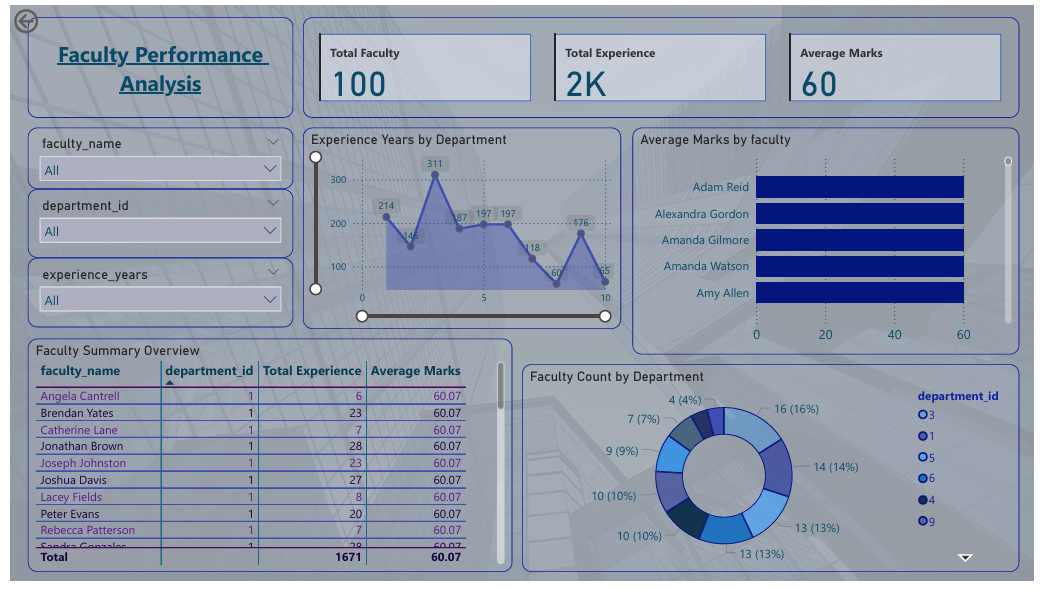

The page's visual inventory and layout, read from the dashboard file:
{"tool":"powerbi","page":{"name":"Faculty","canvas":[1280,720],"ordinal":2},"visuals":[{"type":"cardVisual","fields":{"Data":["faculty.Total Faculty","faculty.Total Experience","marks.Average Marks"]},"box":[366.2,15.1,895.3,126],"z":0},{"type":"textbox","box":[21.8,15.1,332.6,126],"z":1000},{"type":"barChart","title":"Average Marks by faculty","fields":{"Category":["faculty.faculty_name"],"Y":["marks.Average Marks"]},"box":[777.7,152.9,483.8,283.9],"z":2000},{"type":"donutChart","title":"Faculty Count by Department","fields":{"Category":["departments1.department_id"],"Y":["Count(faculty.faculty_id)"]},"box":[640,448.5,621.5,260.4],"z":3000},{"type":"tableEx","title":"Faculty Summary Overview","fields":{"Values":["faculty.faculty_name","faculty.department_id","faculty.Total Experience","marks.Average Marks"]},"box":[21.8,416.6,606.4,292.3],"z":4000},{"type":"slicer","fields":{"Values":["faculty.faculty_name"]},"box":[21.8,152.9,332.6,77.3],"z":5000},{"type":"slicer","fields":{"Values":["faculty.department_id"]},"box":[21.8,230.1,332.6,85.7],"z":6000},{"type":"slicer","fields":{"Values":["faculty.experience_years"]},"box":[21.8,315.8,332.6,87.3],"z":7000},{"type":"actionButton","box":[0,0,100,40],"z":8000},{"type":"lineChart","title":"Experience Years by Department","fields":{"Y":["Sum(faculty.experience_years)"],"Category":["faculty.department_id"]},"box":[366.2,152.9,398.1,252],"z":9000}]}

Visuals, with their boxes in screenshot pixels (x1, y1, x2, y2), scaled from the page's 1280x720 canvas onto the 1043x590 screenshot:
cardVisual - faculty.Total Faculty x faculty.Total Experience: [left=298, top=12, right=1028, bottom=116]
textbox: [left=18, top=12, right=289, bottom=116]
"Average Marks by faculty" barChart: [left=634, top=125, right=1028, bottom=358]
"Faculty Count by Department" donutChart: [left=522, top=368, right=1028, bottom=581]
"Faculty Summary Overview" tableEx: [left=18, top=341, right=512, bottom=581]
slicer - faculty.faculty_name: [left=18, top=125, right=289, bottom=189]
slicer - faculty.department_id: [left=18, top=189, right=289, bottom=259]
slicer - faculty.experience_years: [left=18, top=259, right=289, bottom=330]
actionButton: [left=0, top=0, right=81, bottom=33]
"Experience Years by Department" lineChart: [left=298, top=125, right=623, bottom=332]
